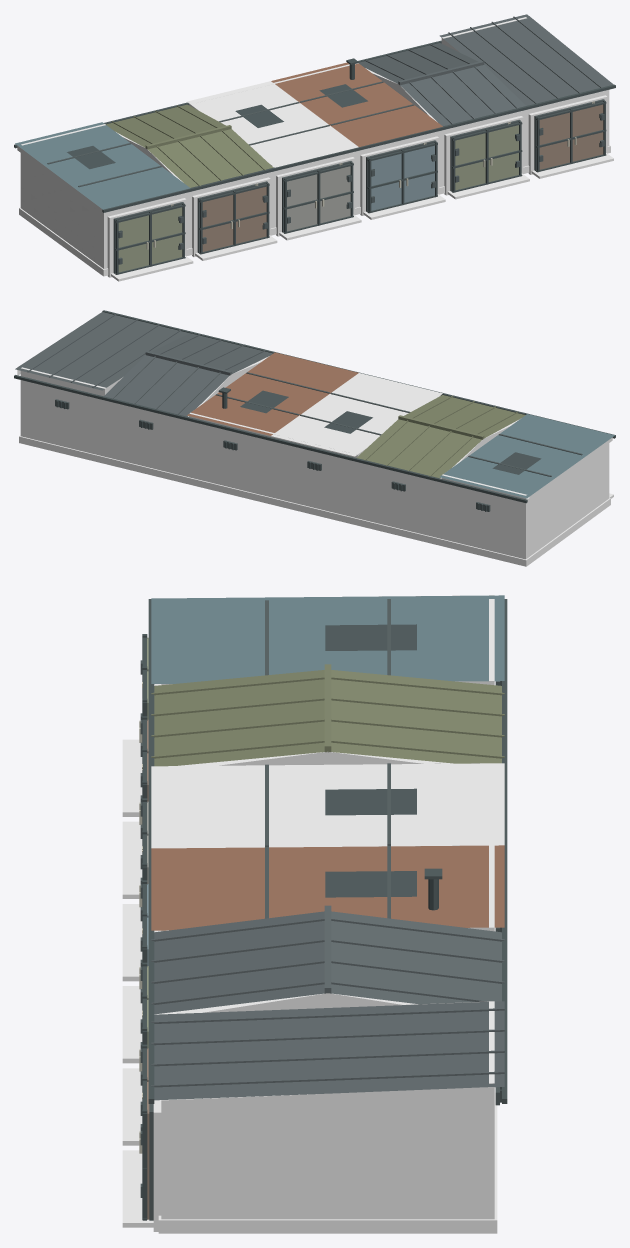
File: frontier_garage_row_5.glb
3 views of the same model, one above another, from view 1: azimuth 30°, elevation 25°; view 2: azimuth 150°, elevation 25°; view 3: azimuth 270°, elevation 25° (orthographic). The views are drawn at different scales.
Visible parts, largest first — view 1: frontier_garage_row_5; view 2: frontier_garage_row_5; view 3: frontier_garage_row_5.
Boxes of the visible parts, box(x1,y1,x2,y2) form: frontier_garage_row_5: box(14, 14, 615, 281); frontier_garage_row_5: box(14, 310, 615, 566); frontier_garage_row_5: box(122, 595, 507, 1233).
Size of the model in its own units: 21.3 by 3.55 by 6.93.
